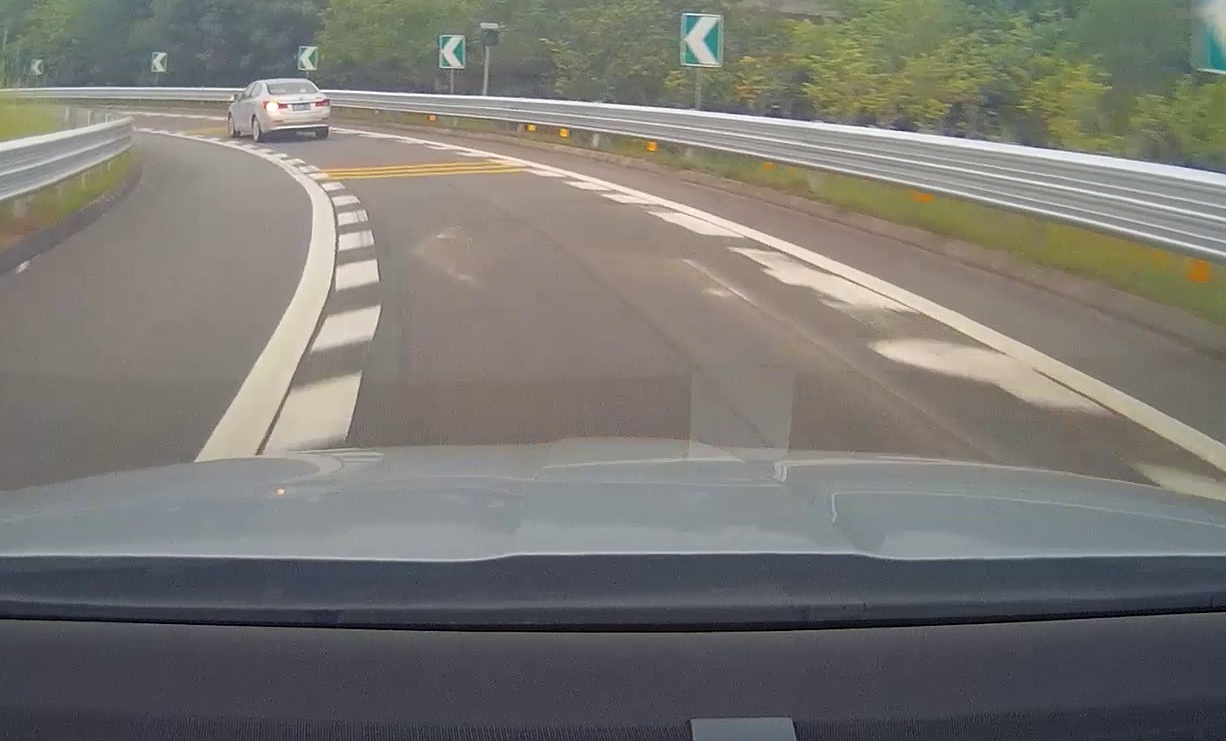L_light: (264, 101, 287, 110)
R_light: (314, 98, 330, 106)
T_light: (291, 90, 302, 94)
day-left: (262, 78, 332, 142)
